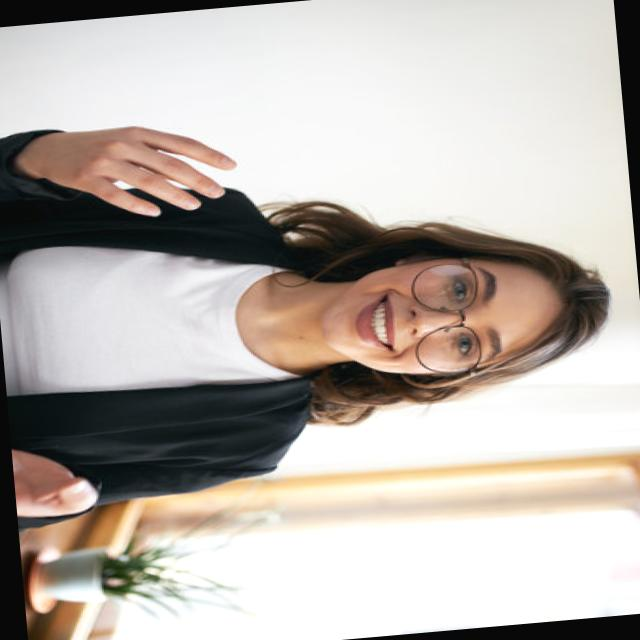Hand: (9, 104, 252, 232)
